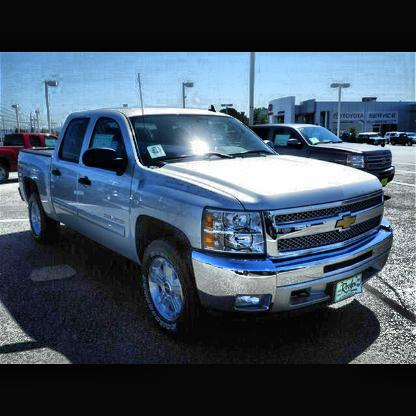Chevrolet Silverado 1500 Hybrid Crew Cab 2012: (16, 105, 394, 327)
